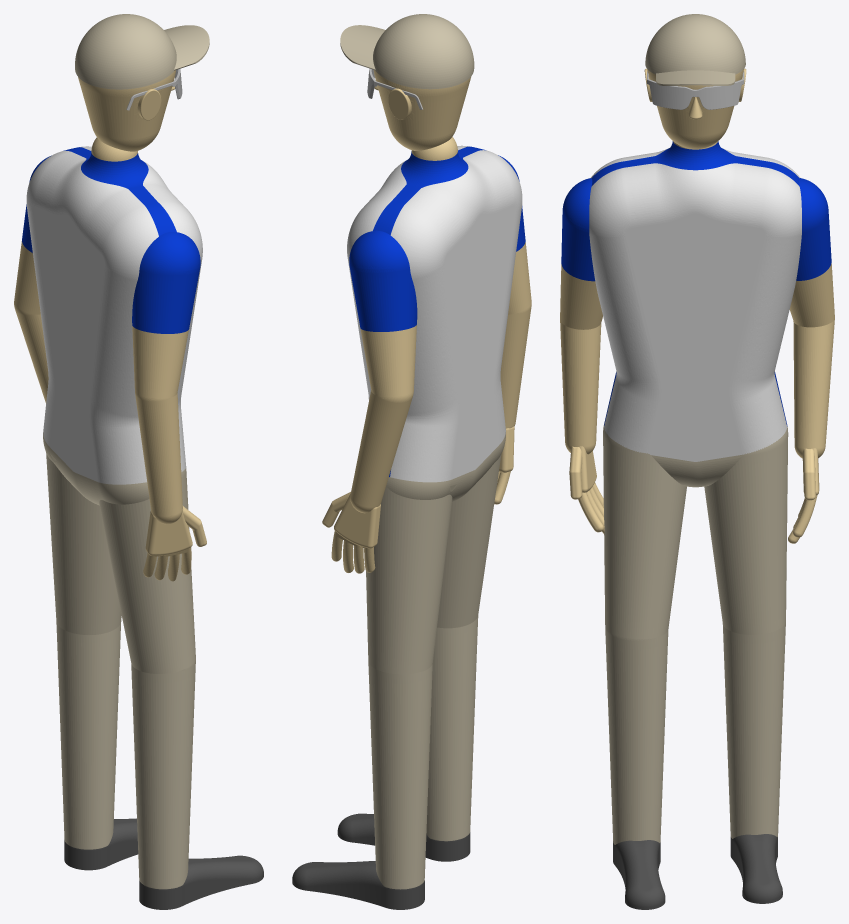
Rendered from human.dae.
3 renders of one model, left to right at view 1: azimuth 30°, elevation 25°; view 2: azimuth 150°, elevation 25°; view 3: azimuth 270°, elevation 25°, orthographic. The views are drawn at different scales.
Visible parts, largest first — view 1: node_7cc2bf6a_ac6e_4c69_b4ec_cdfcbc668a1c_mesh5, node_7cc2bf6a_ac6e_4c69_b4ec_cdfcbc668a1c_mesh4, node_7cc2bf6a_ac6e_4c69_b4ec_cdfcbc668a1c_mesh0, node_7cc2bf6a_ac6e_4c69_b4ec_cdfcbc668a1c_mesh6, node_7cc2bf6a_ac6e_4c69_b4ec_cdfcbc668a1c_mesh2, node_7cc2bf6a_ac6e_4c69_b4ec_cdfcbc668a1c_mesh1; view 2: node_7cc2bf6a_ac6e_4c69_b4ec_cdfcbc668a1c_mesh5, node_7cc2bf6a_ac6e_4c69_b4ec_cdfcbc668a1c_mesh4, node_7cc2bf6a_ac6e_4c69_b4ec_cdfcbc668a1c_mesh0, node_7cc2bf6a_ac6e_4c69_b4ec_cdfcbc668a1c_mesh6, node_7cc2bf6a_ac6e_4c69_b4ec_cdfcbc668a1c_mesh2, node_7cc2bf6a_ac6e_4c69_b4ec_cdfcbc668a1c_mesh1; view 3: node_7cc2bf6a_ac6e_4c69_b4ec_cdfcbc668a1c_mesh5, node_7cc2bf6a_ac6e_4c69_b4ec_cdfcbc668a1c_mesh4, node_7cc2bf6a_ac6e_4c69_b4ec_cdfcbc668a1c_mesh0, node_7cc2bf6a_ac6e_4c69_b4ec_cdfcbc668a1c_mesh6, node_7cc2bf6a_ac6e_4c69_b4ec_cdfcbc668a1c_mesh2, node_7cc2bf6a_ac6e_4c69_b4ec_cdfcbc668a1c_mesh1, node_7cc2bf6a_ac6e_4c69_b4ec_cdfcbc668a1c_mesh3.
Part boxes in pixels (box(x1,y1,x2,y2)): node_7cc2bf6a_ac6e_4c69_b4ec_cdfcbc668a1c_mesh5: box(43, 14, 209, 889); node_7cc2bf6a_ac6e_4c69_b4ec_cdfcbc668a1c_mesh4: box(26, 146, 202, 484); node_7cc2bf6a_ac6e_4c69_b4ec_cdfcbc668a1c_mesh0: box(14, 137, 206, 581); node_7cc2bf6a_ac6e_4c69_b4ec_cdfcbc668a1c_mesh6: box(22, 147, 200, 333); node_7cc2bf6a_ac6e_4c69_b4ec_cdfcbc668a1c_mesh2: box(64, 818, 263, 909); node_7cc2bf6a_ac6e_4c69_b4ec_cdfcbc668a1c_mesh1: box(78, 70, 188, 580); node_7cc2bf6a_ac6e_4c69_b4ec_cdfcbc668a1c_mesh5: box(340, 14, 505, 889); node_7cc2bf6a_ac6e_4c69_b4ec_cdfcbc668a1c_mesh4: box(347, 145, 522, 482); node_7cc2bf6a_ac6e_4c69_b4ec_cdfcbc668a1c_mesh0: box(322, 137, 531, 573); node_7cc2bf6a_ac6e_4c69_b4ec_cdfcbc668a1c_mesh6: box(349, 146, 525, 476); node_7cc2bf6a_ac6e_4c69_b4ec_cdfcbc668a1c_mesh2: box(292, 813, 470, 909); node_7cc2bf6a_ac6e_4c69_b4ec_cdfcbc668a1c_mesh1: box(373, 70, 501, 491); node_7cc2bf6a_ac6e_4c69_b4ec_cdfcbc668a1c_mesh5: box(603, 14, 788, 844); node_7cc2bf6a_ac6e_4c69_b4ec_cdfcbc668a1c_mesh4: box(589, 148, 801, 461); node_7cc2bf6a_ac6e_4c69_b4ec_cdfcbc668a1c_mesh0: box(560, 141, 834, 543); node_7cc2bf6a_ac6e_4c69_b4ec_cdfcbc668a1c_mesh6: box(561, 141, 831, 426); node_7cc2bf6a_ac6e_4c69_b4ec_cdfcbc668a1c_mesh2: box(613, 834, 782, 909); node_7cc2bf6a_ac6e_4c69_b4ec_cdfcbc668a1c_mesh1: box(595, 68, 746, 497); node_7cc2bf6a_ac6e_4c69_b4ec_cdfcbc668a1c_mesh3: box(647, 71, 744, 109).
Size of the model in its own units: 361 by 528 by 1780.
